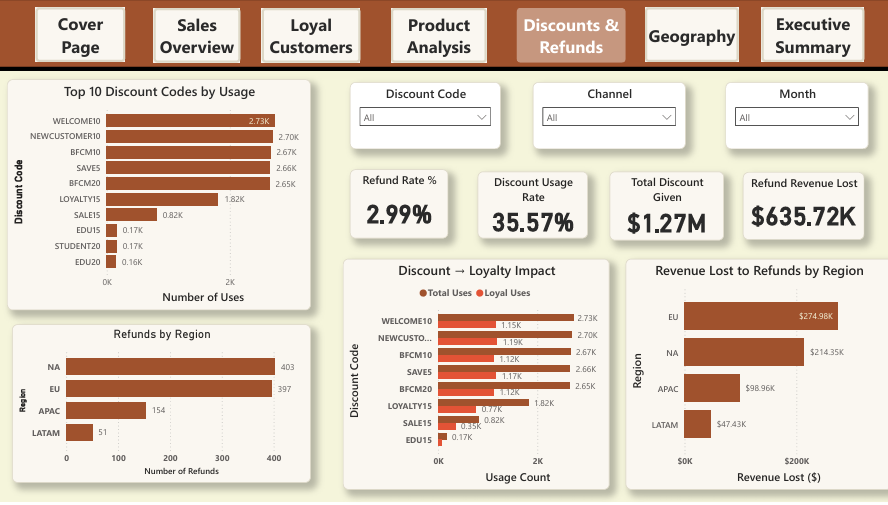

The page's visual inventory and layout, read from the dashboard file:
{"tool":"powerbi","page":{"name":"Discounts & Refunds","canvas":[1280,720],"ordinal":4},"visuals":[{"type":"shape","box":[0,0,1280,98.6],"z":0},{"type":"actionButton","title":"Sales Overview","box":[52.9,11.4,128.6,77.1],"z":1000},{"type":"actionButton","title":"Sales Overview","box":[376.7,12.3,141.1,77.3],"z":2000},{"type":"actionButton","title":"Sales Overview","box":[562,12.3,137.4,77.3],"z":3000},{"type":"actionButton","title":"Sales Overview","box":[222.1,12.3,123.9,77.3],"z":4000},{"type":"actionButton","title":"Sales Overview","box":[925.7,11.4,134.3,77.1],"z":5000},{"type":"actionButton","title":"Sales Overview","box":[1092.9,11.4,147.1,77.1],"z":6000},{"type":"actionButton","title":"Sales Overview","box":[742.3,12.3,155.8,77.3],"z":7000},{"type":"shape","box":[0,81.4,1280,35.7],"z":8000},{"type":"slicer","title":"Discount Code","fields":{"Values":["Events.discount_code"]},"box":[503.5,118,215.8,96.4],"z":9000},{"type":"slicer","title":"Channel","fields":{"Values":["Events.channel"]},"box":[765.3,118,218.7,96.4],"z":10000},{"type":"slicer","title":"Month","fields":{"Values":["monthly_summary.year_month"]},"box":[1041.5,118,204.3,96.4],"z":11000},{"type":"card","title":"Discount Usage Rate","fields":{"Values":["_Measures.Discount Usage Rate %"]},"box":[686.2,246,158.2,96.4],"z":12000},{"type":"card","title":"Total Discount Given","fields":{"Values":["_Measures.Total Discount Given"]},"box":[874.6,246,164,99.3],"z":13000},{"type":"card","title":"Refund Rate %","fields":{"Values":["_Measures.Refund Rate %"]},"box":[503.5,243.1,141,99.3],"z":14000},{"type":"card","title":"Refund Revenue Lost","fields":{"Values":["_Measures.Refund Revenue Lost"]},"box":[1066,247.4,174.1,96.4],"z":15000},{"type":"clusteredBarChart","title":"Top 10 Discount Codes by Usage","fields":{"Y":["_Measures.Discount Uses"],"Category":["Events.discount_code"]},"box":[11.5,113.6,435.9,330.9],"z":16000},{"type":"clusteredBarChart","title":"Discount → Loyalty Impact","fields":{"Category":["Events.discount_code"],"Y":["_Measures.Discount Uses","_Measures.Loyal Discount Uses"]},"box":[493.4,371.1,381.2,330.9],"z":17000},{"type":"clusteredBarChart","title":"Refunds by Region","fields":{"Y":["_Measures.Total Refunds"],"Category":["Customers.region"]},"box":[18.7,464.6,428.7,227.3],"z":18000},{"type":"clusteredBarChart","title":"Revenue Lost to Refunds by Region","fields":{"Category":["Customers.region"],"Y":["_Measures.Refund Revenue Lost"]},"box":[897.6,371.1,382.6,330.9],"z":19000}]}

Visuals, with their boxes in screenshot pixels (x1, y1, x2, y2), scaled from the page's 1280x720 canvas onto the 888x505 screenshot:
shape: 0:0:887:69
"Sales Overview" actionButton: 37:8:126:62
"Sales Overview" actionButton: 261:9:359:63
"Sales Overview" actionButton: 390:9:485:63
"Sales Overview" actionButton: 154:9:240:63
"Sales Overview" actionButton: 642:8:735:62
"Sales Overview" actionButton: 758:8:860:62
"Sales Overview" actionButton: 515:9:623:63
shape: 0:57:887:82
"Discount Code" slicer: 349:83:499:150
"Channel" slicer: 531:83:683:150
"Month" slicer: 723:83:864:150
"Discount Usage Rate" card: 476:173:586:240
"Total Discount Given" card: 607:173:721:242
"Refund Rate %" card: 349:171:447:240
"Refund Revenue Lost" card: 740:174:860:241
"Top 10 Discount Codes by Usage" clusteredBarChart: 8:80:310:312
"Discount → Loyalty Impact" clusteredBarChart: 342:260:607:492
"Refunds by Region" clusteredBarChart: 13:326:310:485
"Revenue Lost to Refunds by Region" clusteredBarChart: 623:260:887:492
